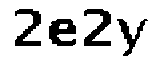2: (82, 6, 114, 50), (13, 6, 44, 49)
e: (47, 15, 81, 50)
y: (116, 14, 152, 60)
